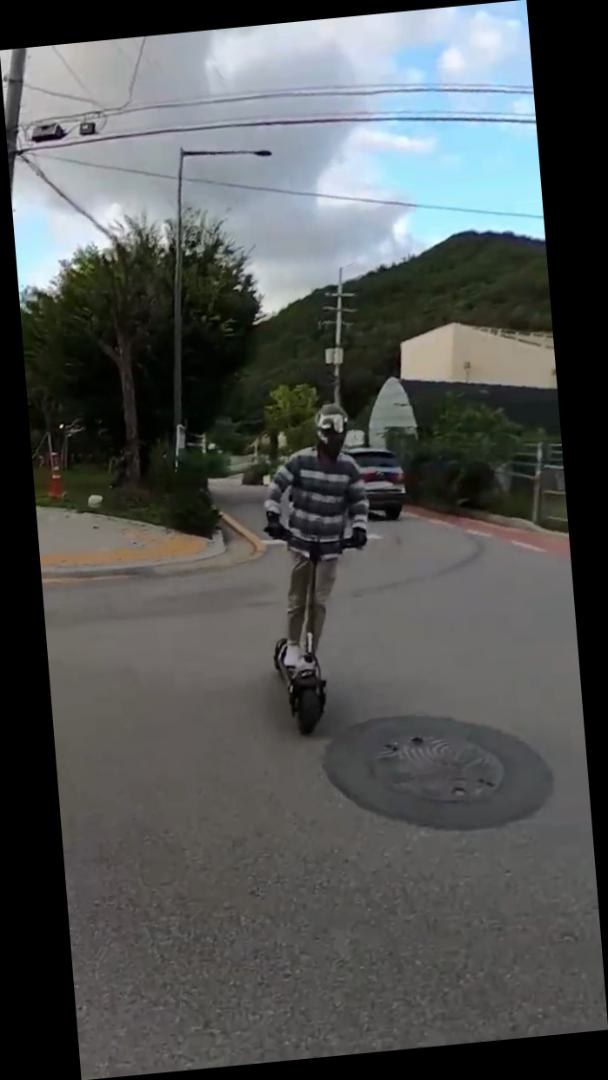helmet: (249, 399, 388, 742)
